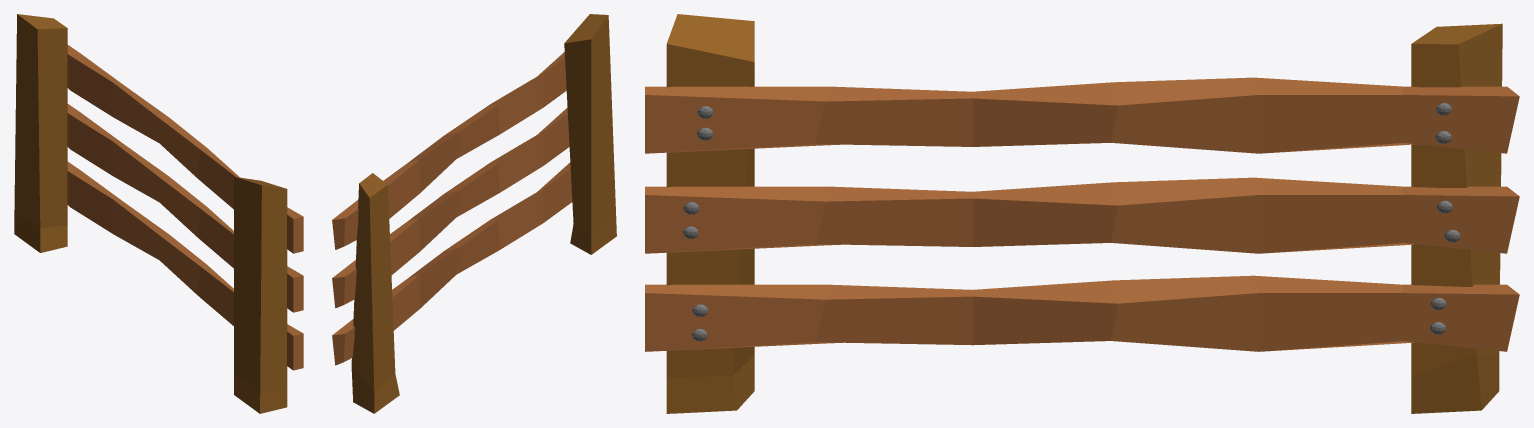
The model's file is wooden_fence.glb.
The picture shows the model from 3 angles, left to right: view 1: azimuth 30°, elevation 25°; view 2: azimuth 150°, elevation 25°; view 3: azimuth 270°, elevation 25°; orthographic projection. The views are drawn at different scales.
Parts seen in each view (by area): view 1: Post_Left_0, Post_Right_2, Panel_Top_1, Panel_Bottom_4, Panel_Middle_3; view 2: Post_Left_0, Post_Right_2, Panel_Top_1, Panel_Middle_3, Panel_Bottom_4; view 3: Panel_Top_1, Panel_Bottom_4, Panel_Middle_3, Post_Right_2, Post_Left_0, Nails_5.
Boxes of the visible parts, x1,y1,x2,y2 form: Post_Left_0: [234, 176, 287, 413]; Post_Right_2: [14, 14, 67, 252]; Panel_Top_1: [67, 45, 303, 253]; Panel_Bottom_4: [67, 162, 303, 370]; Panel_Middle_3: [67, 104, 303, 312]; Post_Left_0: [564, 14, 616, 254]; Post_Right_2: [351, 173, 399, 413]; Panel_Top_1: [332, 52, 566, 249]; Panel_Middle_3: [332, 107, 569, 308]; Panel_Bottom_4: [332, 162, 572, 365]; Panel_Top_1: [645, 77, 1519, 153]; Panel_Bottom_4: [645, 275, 1519, 351]; Panel_Middle_3: [645, 177, 1519, 253]; Post_Right_2: [1411, 23, 1502, 413]; Post_Left_0: [666, 14, 754, 413]; Nails_5: [683, 103, 1460, 341].
Bounding box in the file's own units: 0.4526 × 2.32 × 4.82.
